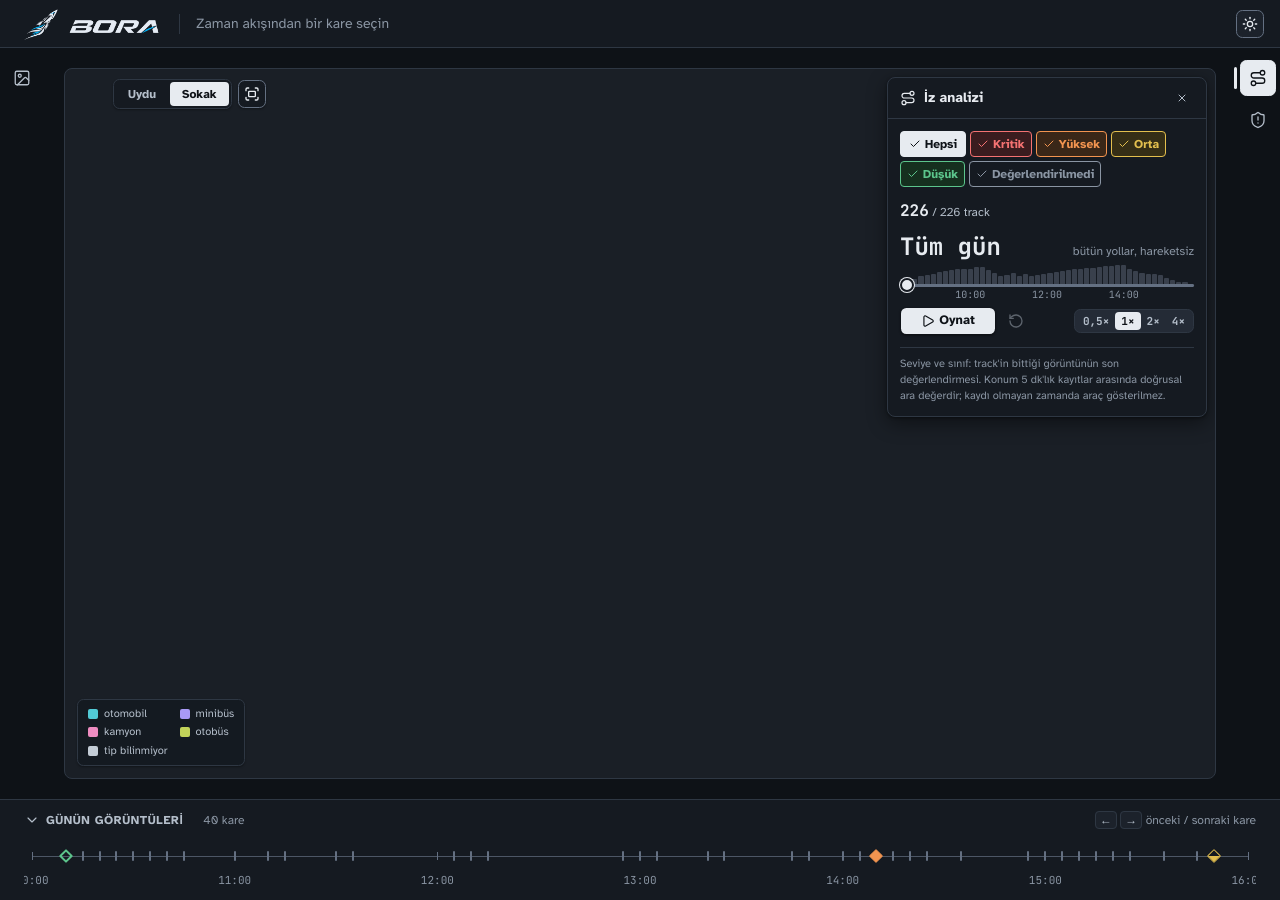
Scenario: İz analizi: açma ve süzgeç › kapatınca iz katmanı boşalır
The image size is (1280, 900).
Expected: the element named "Risk seviyesi süzgeci" is shown, [900,131,1194,187]
Click the button named "İz analizini kapat".
click(1182, 98)  # box [1170,86,1194,110]
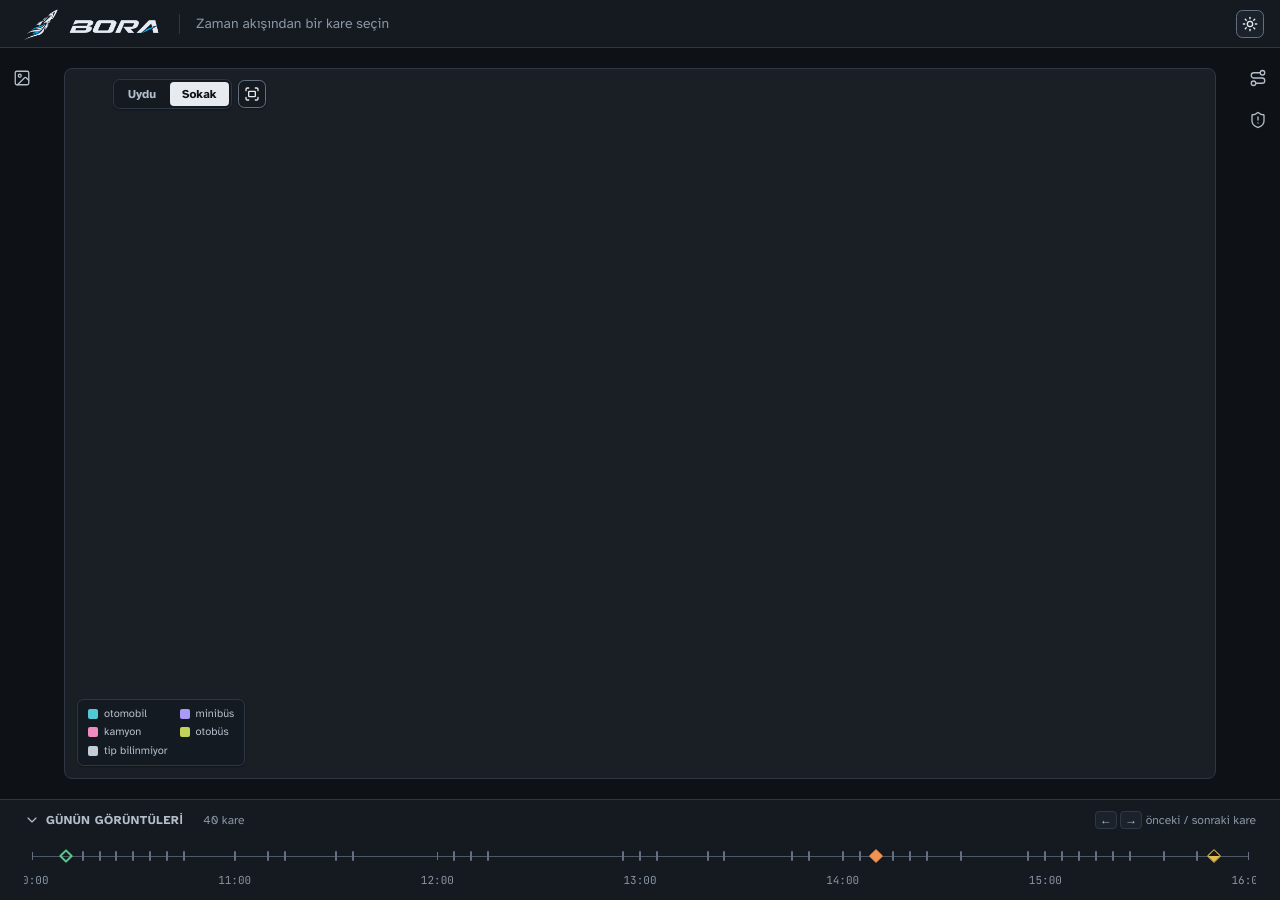
Now the heading "İz analizi" is gone
